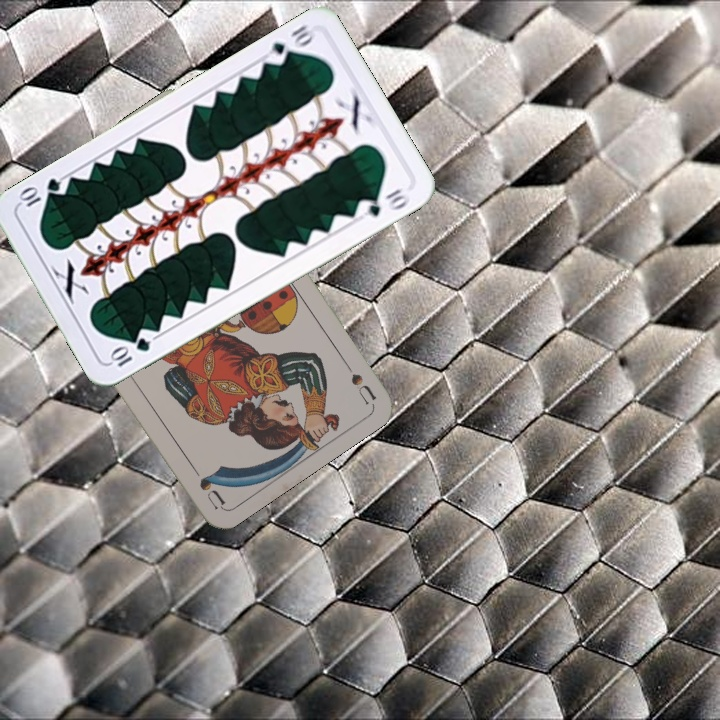G10: (261, 21, 316, 68), (106, 333, 153, 370)
SU: (336, 351, 378, 406)
